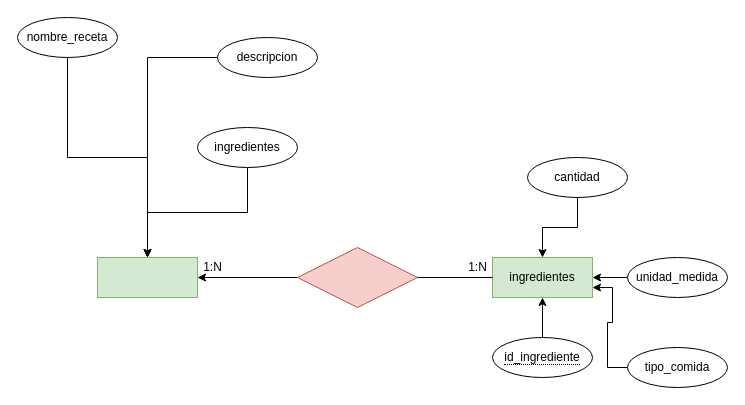
The diagram is 745 pixels wide and 405 high, and some of its shapes have lost their labels. Each missing label, with the centre of its shape:
"receta" goes at point (147, 277).
"tiene" goes at point (357, 277).
